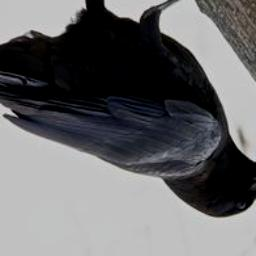Crow: (0, 0, 256, 219)
